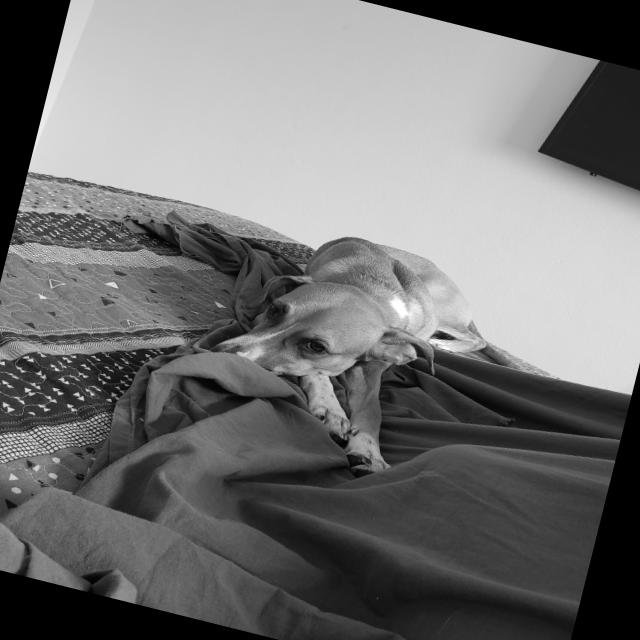laying down: (180, 201, 508, 500)
